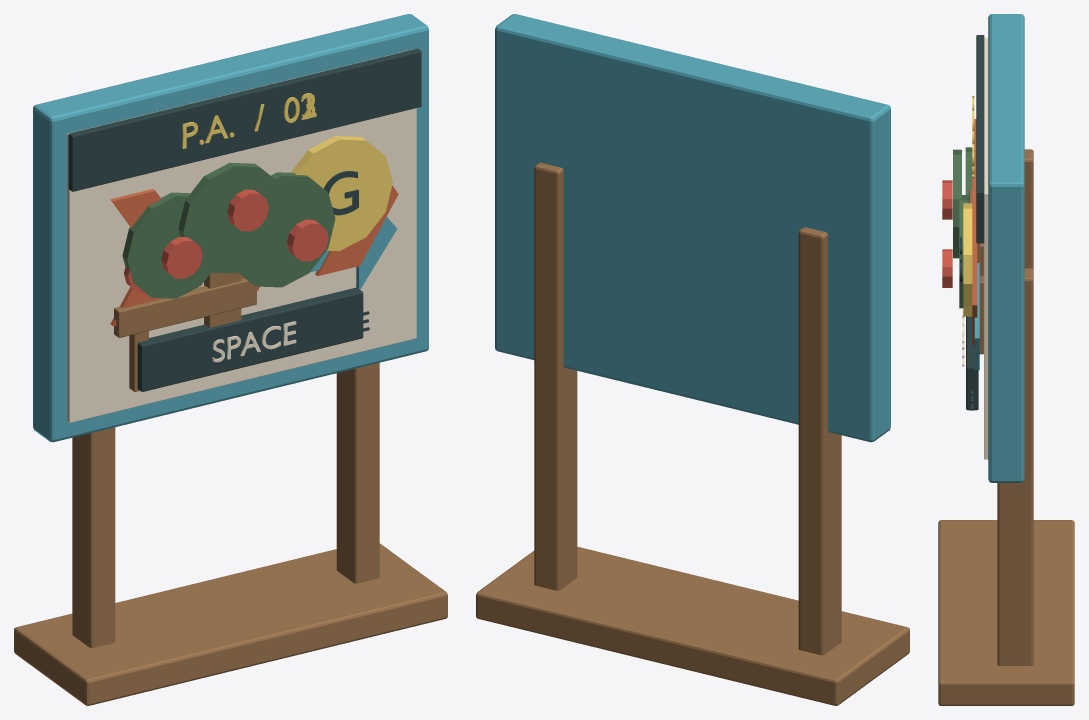
Rendered from PA_DepartureTrainingBoards.fbx.
3 views of the same model, side by side, from view 1: azimuth 30°, elevation 25°; view 2: azimuth 150°, elevation 25°; view 3: azimuth 270°, elevation 25° (orthographic). The views are drawn at different scales.
Parts seen in each view (by area): view 1: Board_Harvest, Board_Move, Board_Trade; view 2: Board_Harvest, Board_Move, Board_Trade; view 3: Board_Harvest, Board_Move, Board_Trade.
Part boxes in pixels (x1,y1,x2,y2): Board_Harvest: (14,14,447,705); Board_Move: (14,93,447,705); Board_Trade: (14,18,447,705); Board_Harvest: (476,14,909,705); Board_Move: (476,170,909,705); Board_Trade: (476,179,909,705); Board_Harvest: (938,14,1074,705); Board_Move: (938,106,1074,705); Board_Trade: (938,14,1074,705).
Bounding box in the file's own units: 1.78 × 2.56 × 0.6.
